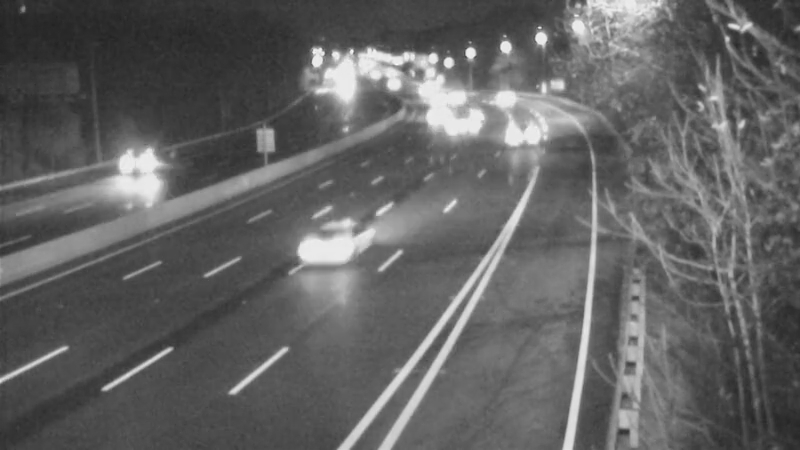vehicle: (294, 197, 374, 277), (86, 118, 166, 198), (426, 70, 476, 120), (482, 72, 532, 122), (427, 97, 477, 147), (499, 111, 549, 161)
